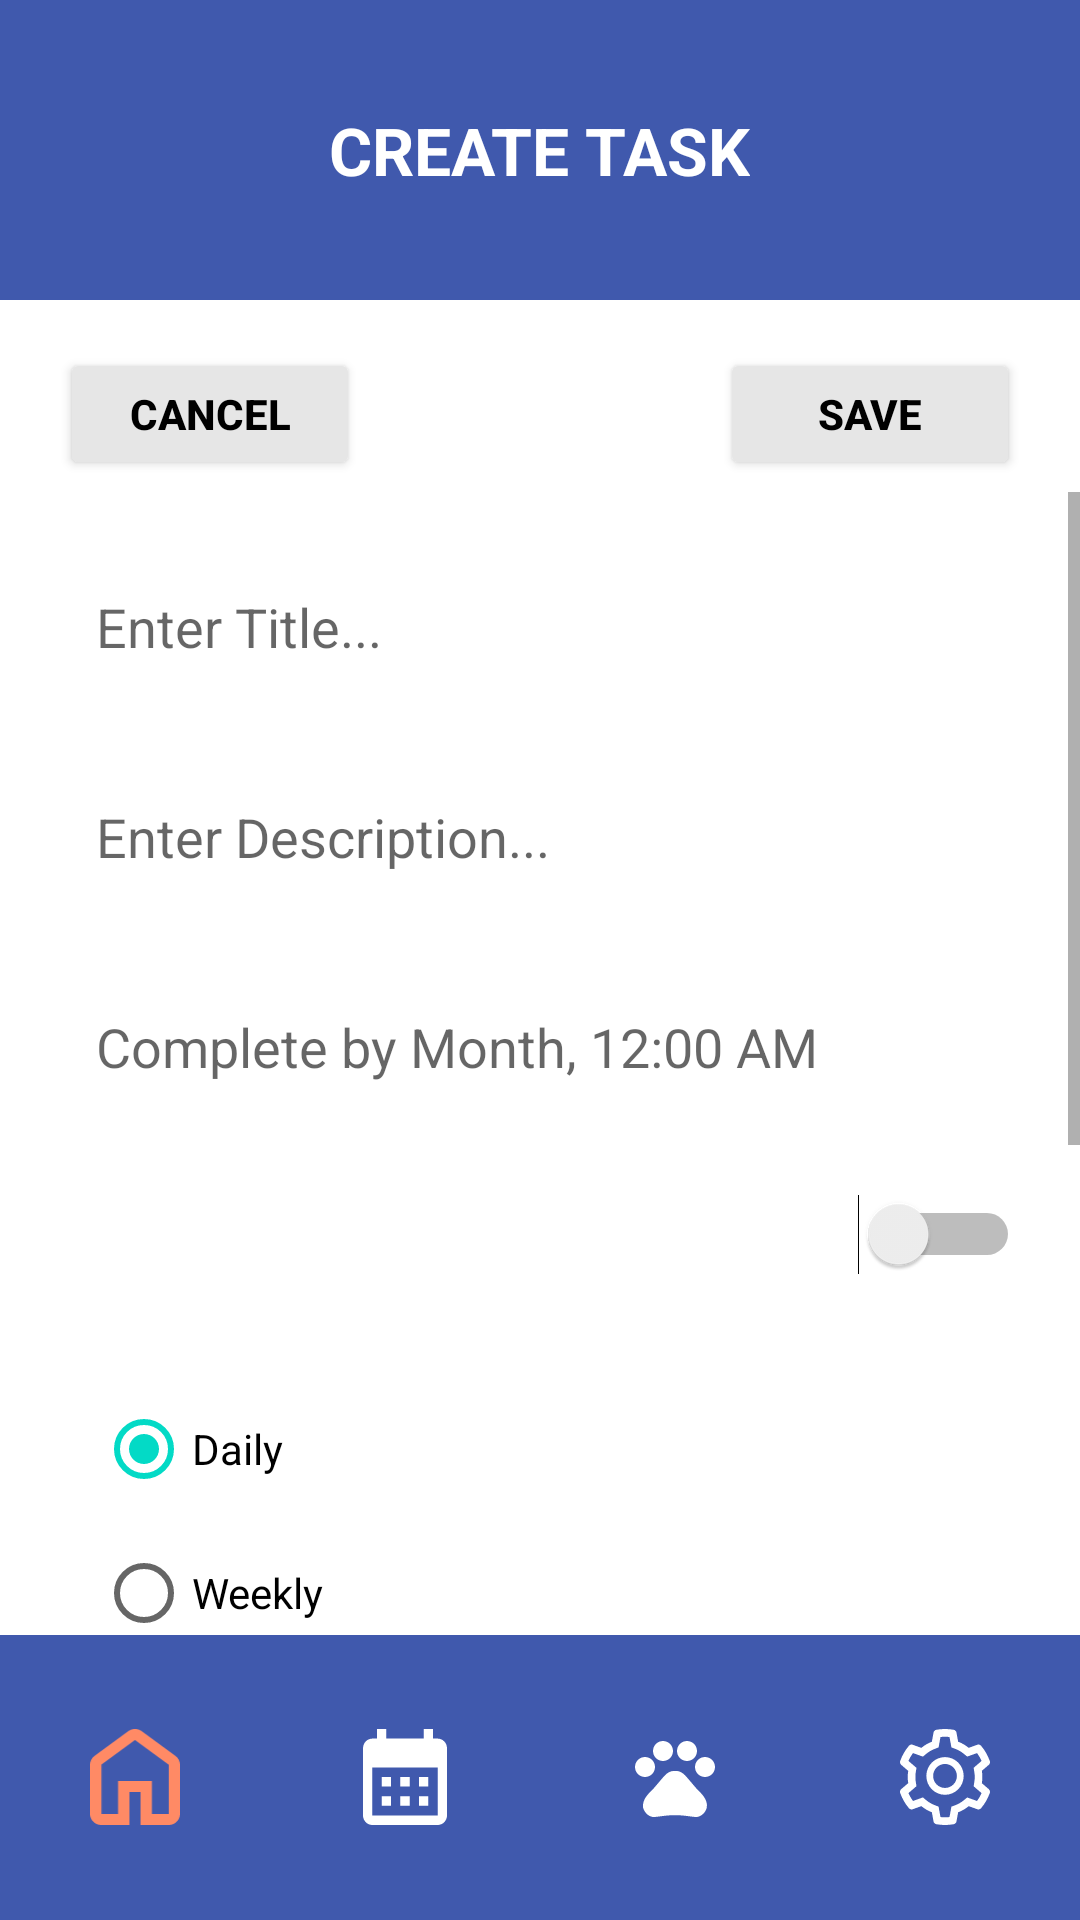

Icon bounding boxes for this 1080w x 1920h phone screenshot, format rect(x1, y1, x2, y2):
calendar: rect(363, 1729, 447, 1825)
home: rect(90, 1729, 180, 1825)
pets: rect(635, 1741, 715, 1817)
settings: rect(900, 1729, 990, 1825)
